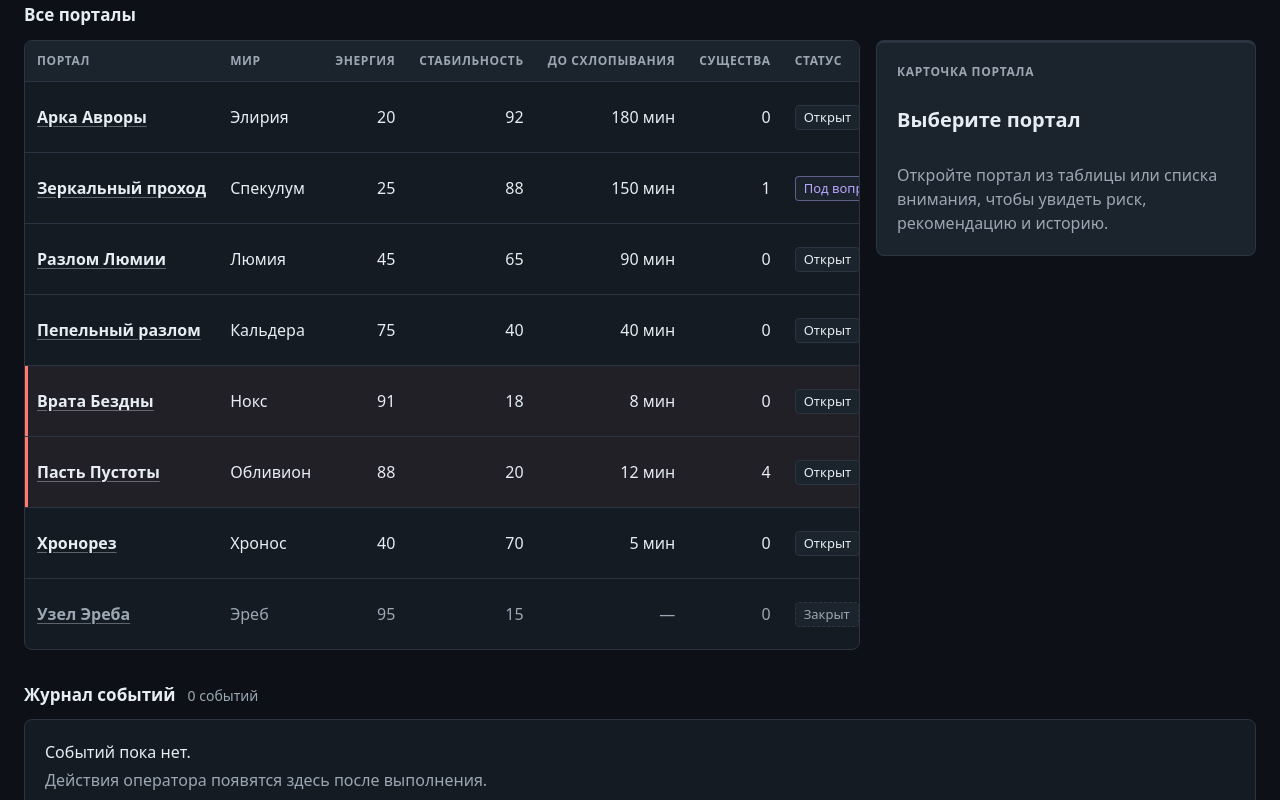
Test case: Выбор портала и карточка › выбор «Врата Бездны» в таблице показывает параметры и риск
This screenshot has width=1280, height=800.
(page scrolled)
Click the button "Врата Бездны".
click(95, 401)  # box [37, 389, 154, 413]
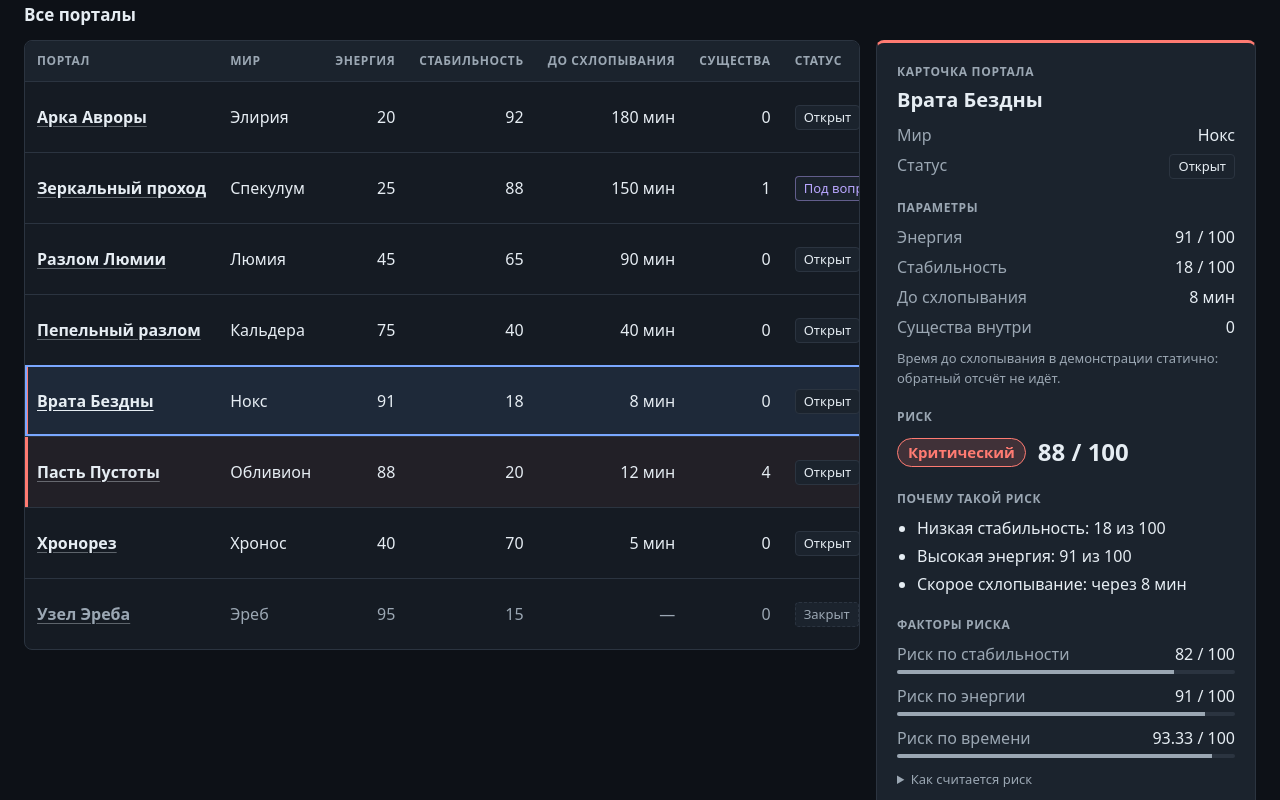
Check: the heading "Врата Бездны" is shown, box [897, 86, 1043, 113]
Check: the text "Критический" is shown, box [897, 438, 1026, 467]
Check: the text "88 / 100" is shown, box [1038, 434, 1129, 470]
